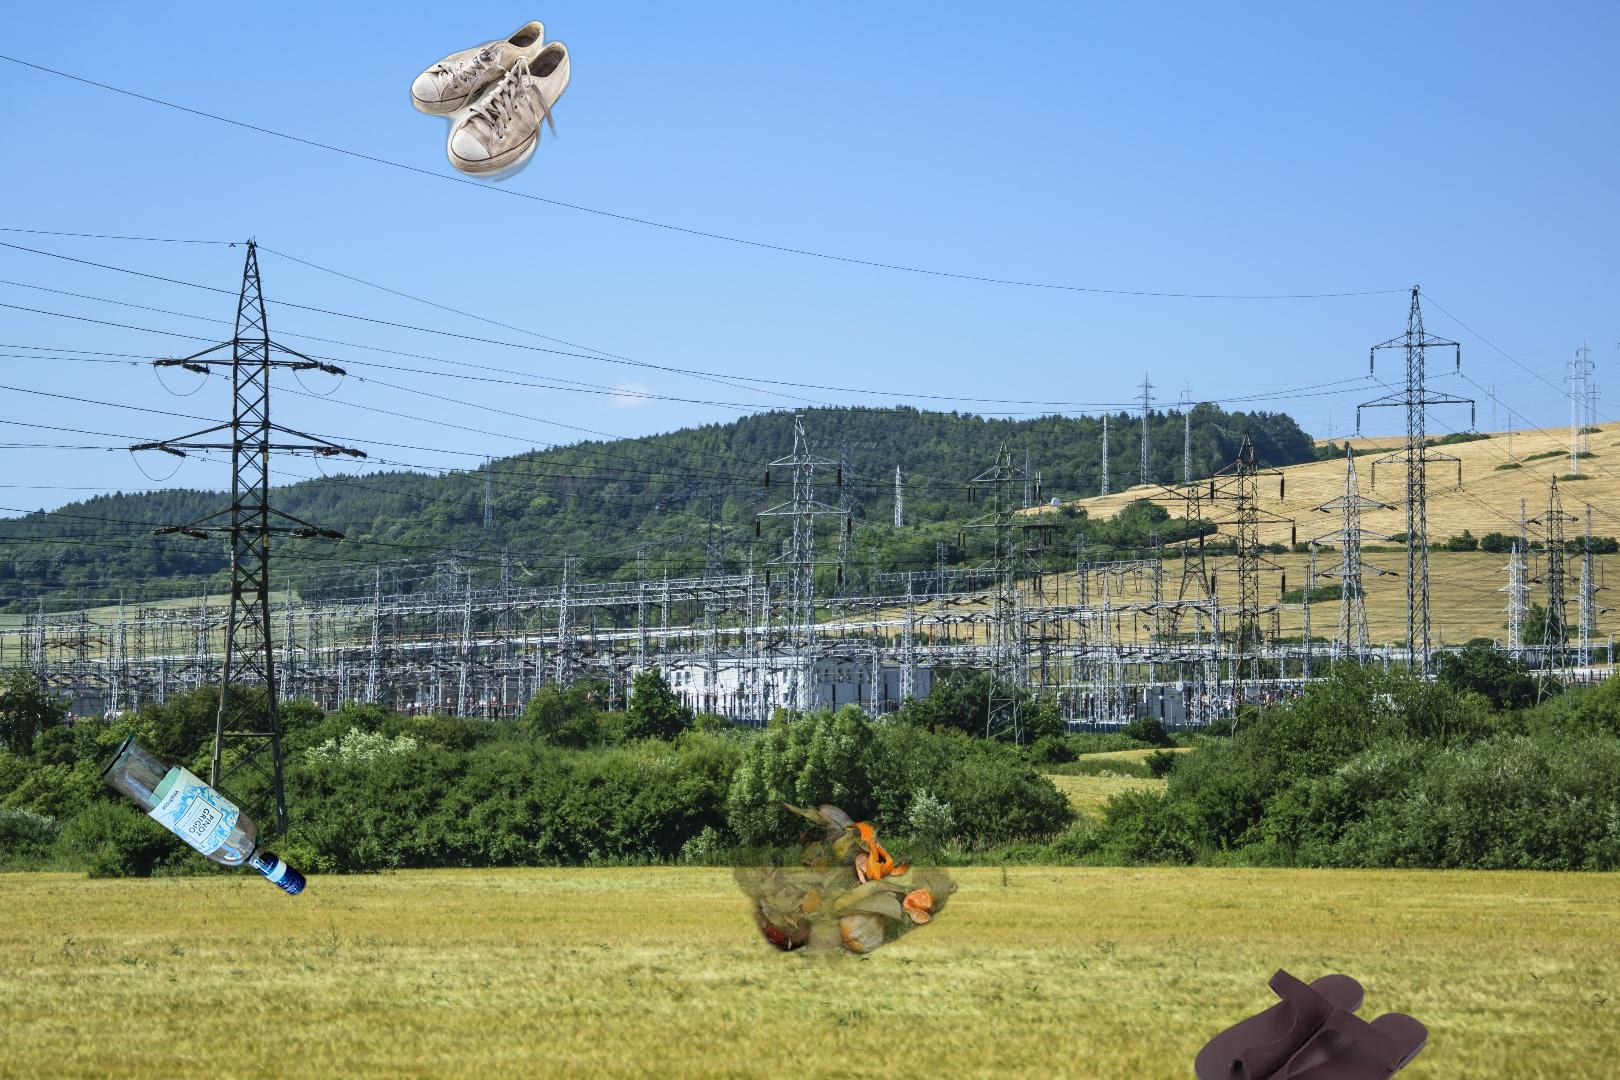biological: (693, 800, 991, 969)
glass: (95, 727, 315, 900)
paper: (1544, 1066, 1620, 1080)
shoes: (407, 18, 573, 187), (1192, 965, 1431, 1080)
trashbox-cardboard: (1501, 521, 1620, 1080)
